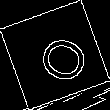O_NW: (23, 24, 87, 86)
